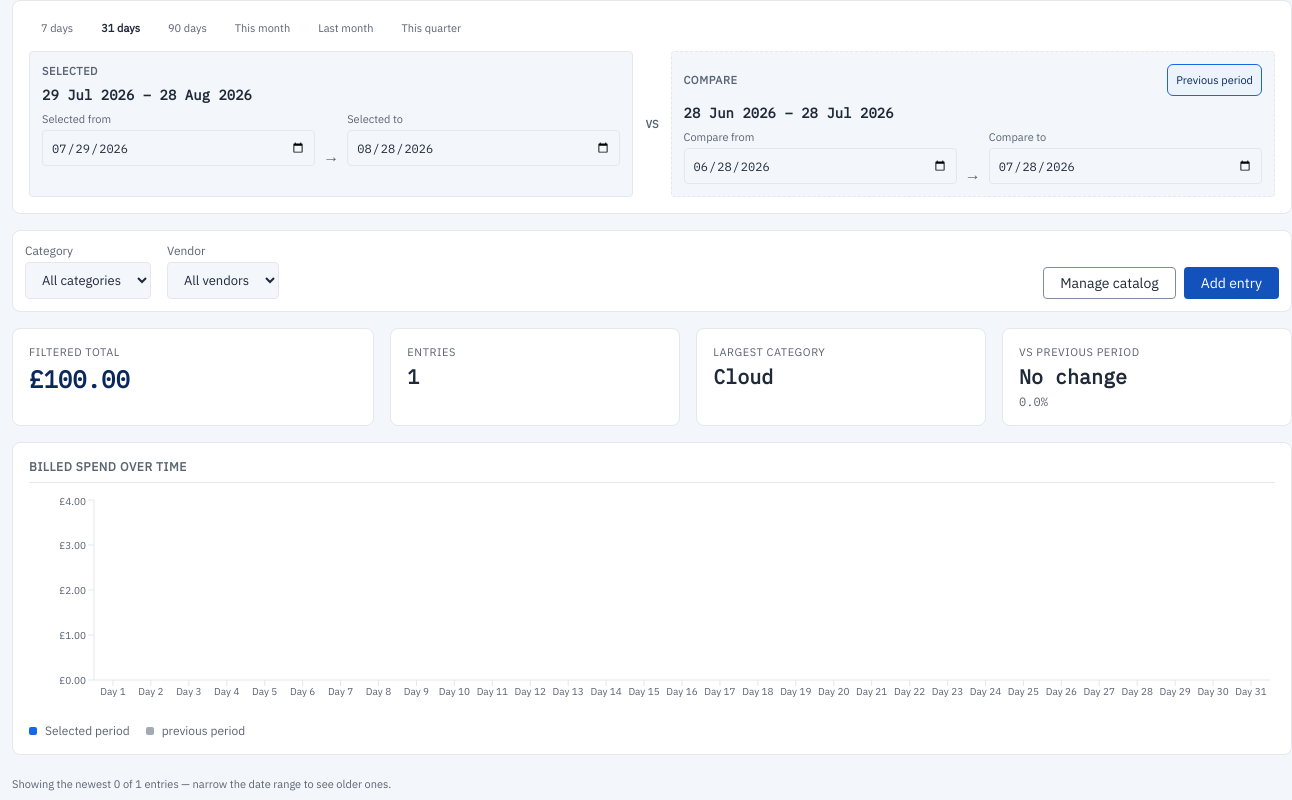
Test: offers calendar periods and updates the default comparison period
Expected: the button "Last month" is shown, [306,17,385,39]
Expected: the button "This quarter" is shown, [389,17,473,39]
Click the button "This month" at (262, 28), box [223,17,302,39]
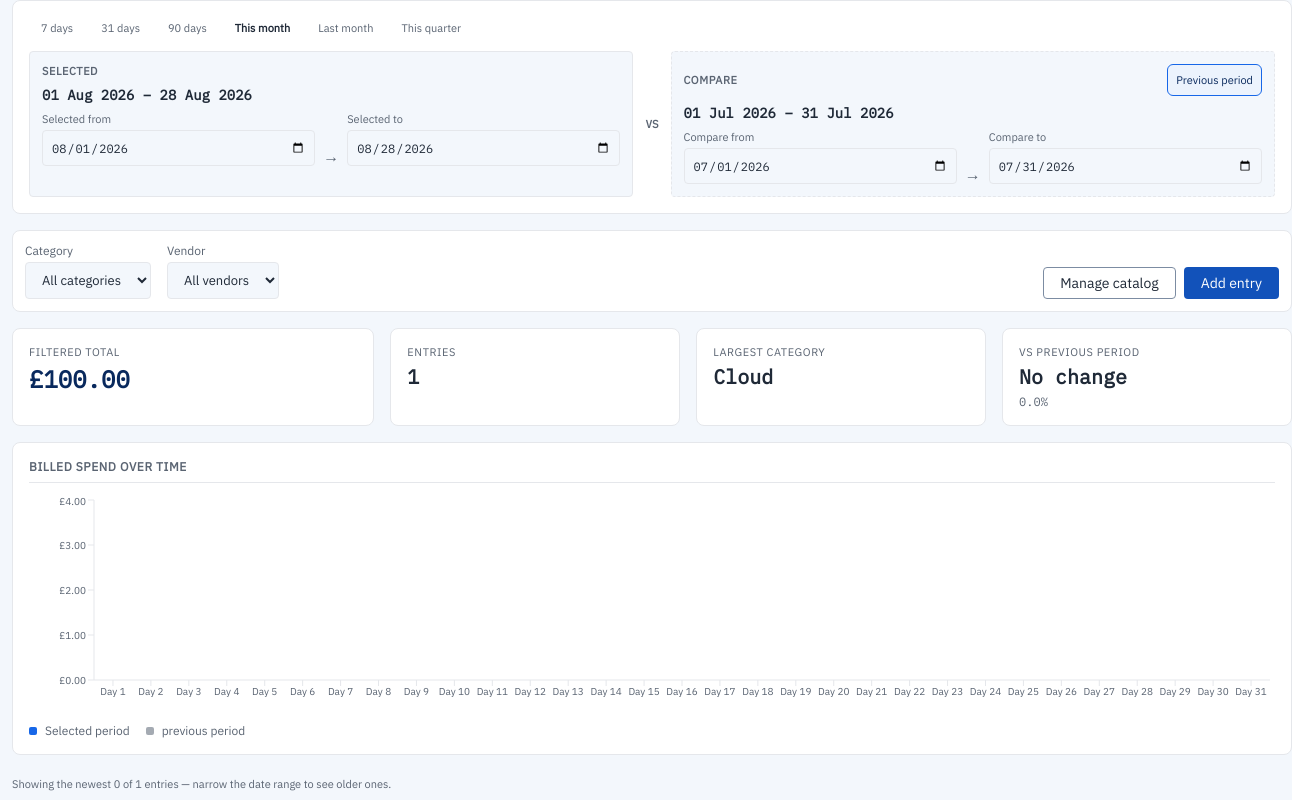
Result: the text "01 Aug 2026 – 28 Aug 2026" is shown at [42,86,252,104]
Result: the text "01 Jul 2026 – 31 Jul 2026" is shown at [684,104,894,122]
